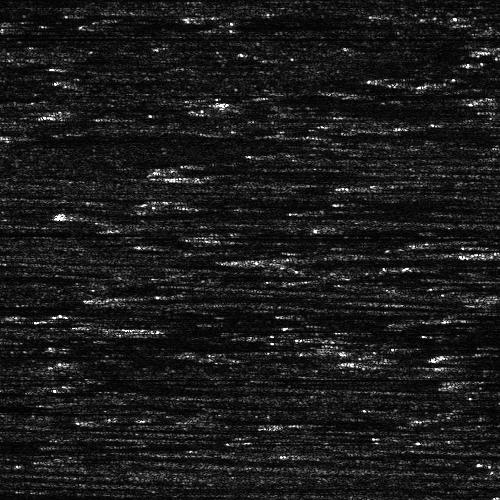rock: (244, 126, 389, 141), (358, 234, 500, 249), (107, 161, 232, 178), (167, 231, 302, 242), (297, 357, 422, 366), (231, 256, 336, 265), (329, 181, 412, 188), (96, 293, 179, 300), (421, 377, 500, 384), (443, 247, 500, 256), (51, 382, 104, 391), (0, 338, 49, 347), (57, 209, 120, 216), (296, 224, 359, 231), (0, 131, 39, 142), (0, 345, 25, 358), (420, 363, 483, 368), (128, 321, 169, 328), (171, 173, 224, 178), (425, 353, 478, 358), (214, 109, 267, 114), (415, 79, 446, 84)
shadow: (170, 161, 411, 178), (0, 338, 453, 347), (317, 126, 500, 141), (0, 439, 195, 452), (284, 256, 500, 265), (235, 231, 394, 242), (8, 131, 160, 142), (0, 19, 46, 48), (328, 224, 500, 231), (89, 209, 244, 216), (0, 492, 212, 497), (0, 345, 81, 358), (0, 37, 104, 46), (371, 181, 500, 188), (360, 357, 443, 366), (452, 234, 500, 249), (78, 382, 156, 391), (149, 321, 228, 328), (138, 293, 215, 300), (0, 0, 209, 2), (198, 173, 278, 178), (241, 109, 319, 114), (431, 79, 500, 84), (0, 89, 25, 102), (452, 363, 500, 368), (452, 353, 500, 358), (468, 377, 500, 384)
